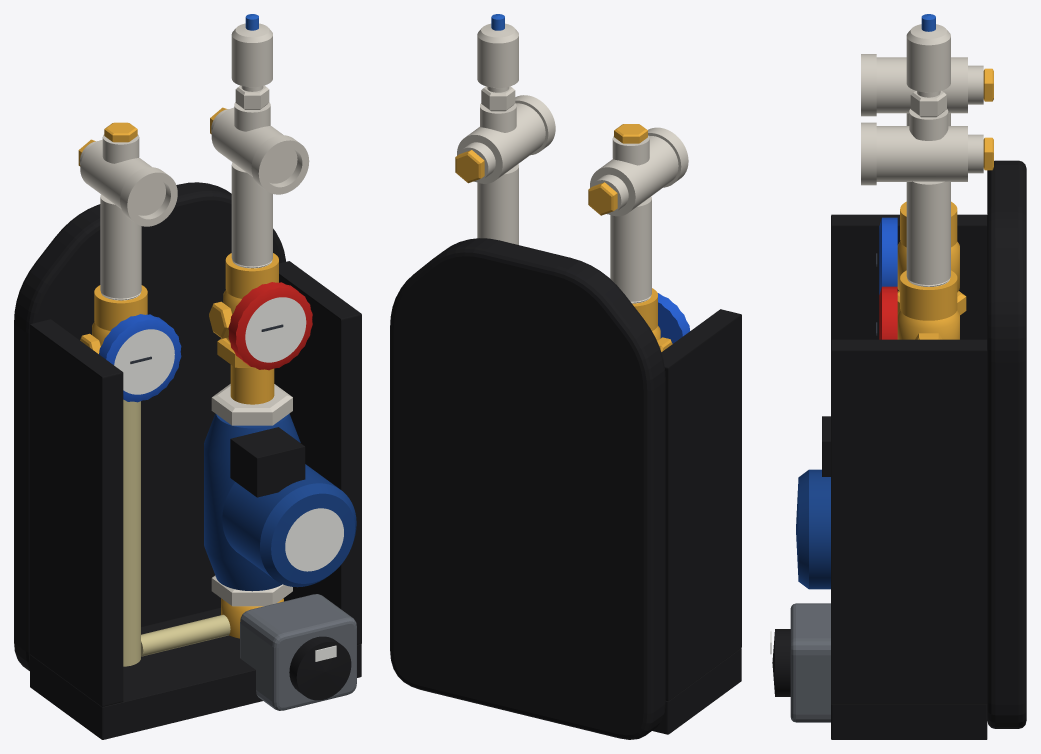
Rendered from pump_group_sdg0003_servo.glb.
3 renders of one model, left to right at view 1: azimuth 30°, elevation 25°; view 2: azimuth 150°, elevation 25°; view 3: azimuth 270°, elevation 25°, orthographic. The views are drawn at different scales.
Parts seen in each view (by area): view 1: кожух задняя, кожух щека, кожух щека.001, кожух дно, мотор, сервопривод, корпус насоса, вставка обратки, клеммная коробка, патрубок.001, патрубок, шкала.001 (+22 smaller); view 2: кожух задняя, кожух щека, патрубок, корпус МУ.001, корпус МУ, кожух дно, патрубок.001, воздухоотводчик, кольцо термометра, отвод вверх, отвод вверх.001, устье 1 ВР.001 (+4 smaller); view 3: кожух щека.001, кожух задняя, кожух щека, кожух дно, сервопривод, корпус МУ.001, патрубок.001, мотор, корпус МУ, воздухоотводчик, гнездо Rp1.001, кольцо термометра (+12 smaller).
Boxes of the visible parts, x1,y1,x2,y2 form: кожух задняя: [14, 182, 285, 670]; кожух щека: [29, 319, 123, 706]; кожух щека.001: [274, 261, 361, 644]; кожух дно: [30, 607, 361, 739]; мотор: [222, 464, 356, 587]; сервопривод: [240, 594, 356, 710]; корпус насоса: [204, 413, 300, 591]; вставка обратки: [123, 400, 140, 666]; клеммная коробка: [230, 427, 305, 497]; патрубок.001: [231, 162, 272, 266]; патрубок: [100, 194, 141, 298]; шкала.001: [245, 297, 306, 362]; кожух задняя: [390, 238, 665, 739]; кожух щека: [661, 309, 741, 701]; патрубок: [610, 196, 651, 301]; корпус МУ.001: [457, 103, 545, 183]; корпус МУ: [590, 136, 678, 216]; кожух дно: [652, 648, 741, 734]; патрубок.001: [477, 164, 518, 244]; воздухоотводчик: [477, 23, 518, 92]; кольцо термометра: [657, 293, 689, 343]; отвод вверх: [612, 135, 649, 165]; отвод вверх.001: [480, 103, 516, 132]; устье 1 ВР.001: [515, 95, 555, 155]; кожух щека.001: [831, 339, 987, 704]; кожух задняя: [987, 160, 1026, 728]; кожух щека: [831, 214, 987, 340]; кожух дно: [831, 704, 987, 739]; сервопривод: [790, 603, 830, 722]; корпус МУ.001: [876, 126, 967, 181]; патрубок.001: [906, 181, 950, 284]; мотор: [796, 469, 830, 589]; корпус МУ: [876, 57, 967, 113]; воздухоотводчик: [906, 24, 950, 97]; гнездо Rp1.001: [900, 270, 957, 320]; кольцо термометра: [879, 217, 897, 294].
Size of the model in its own units: 0.247 by 0.601 by 0.1965.
